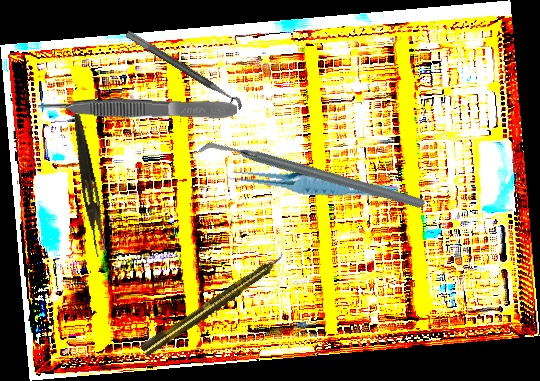Chopper: (193, 67, 427, 286)
Dressing Forceps: (66, 112, 112, 258)
Fixation Ring: (119, 29, 245, 119)
Handpiece: (139, 249, 289, 359)
Tissue Forceps: (227, 156, 399, 211), (37, 93, 238, 122)
